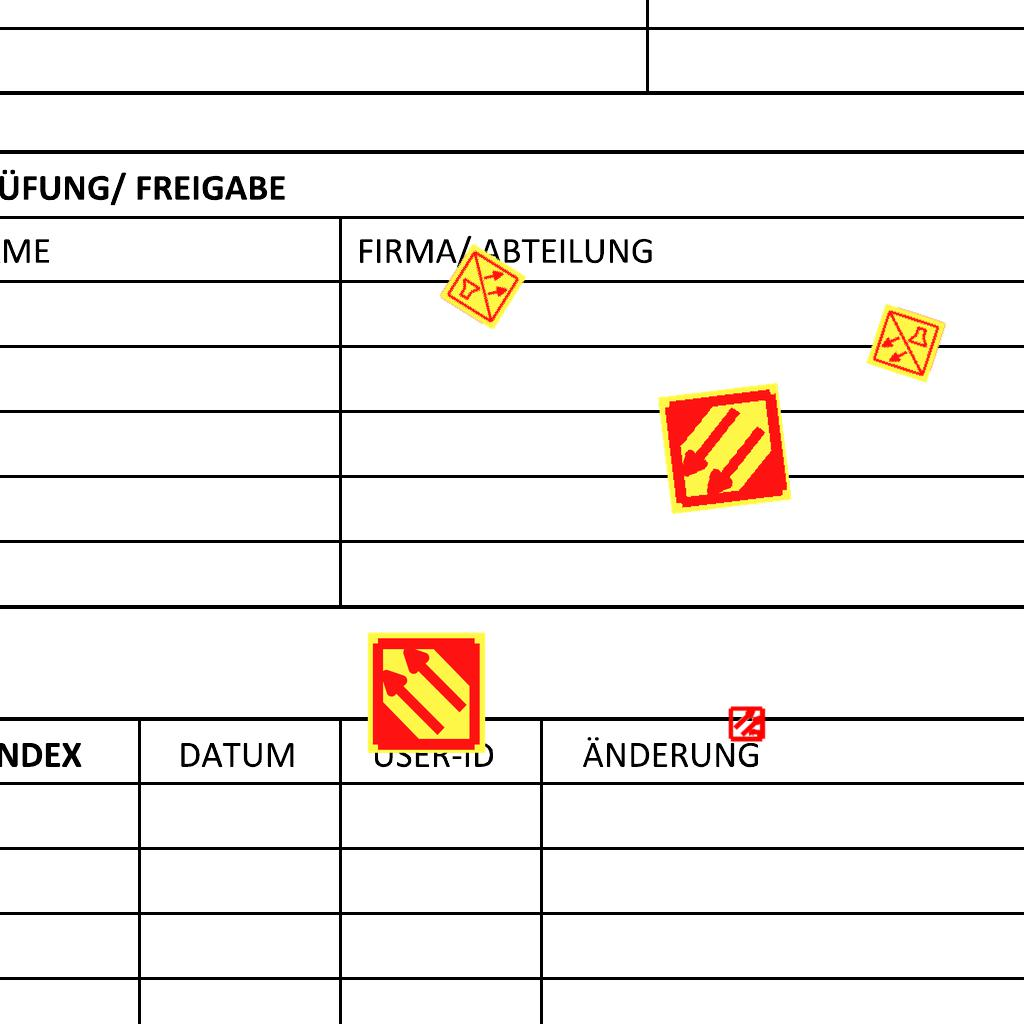ASR_Ansaugrauchmelder: (654, 378, 795, 519), (364, 630, 489, 755)
OKW_Multisensormelder_(Kombination_optischer_Rauch-Kahlenmonoxid_Waerme-Melder): (437, 241, 529, 333), (864, 301, 948, 385)
OT_Multisensormelder_(Kombination_RMO_WMD): (720, 696, 776, 752)
